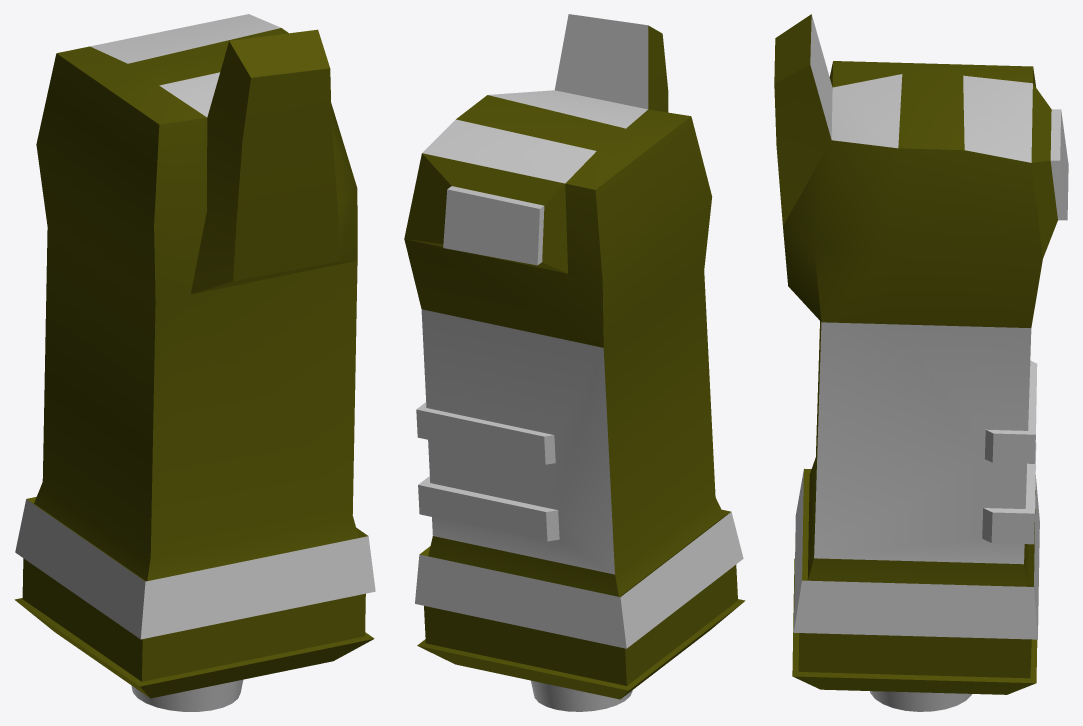
Rendered from leftForeArm.obj.
The picture shows the model from 3 angles, left to right: view 1: azimuth 30°, elevation 25°; view 2: azimuth 150°, elevation 25°; view 3: azimuth 270°, elevation 25°; orthographic projection. The views are drawn at different scales.
Parts seen in each view (by area): view 1: 3_Forearm.L_Cube.036; view 2: 3_Forearm.L_Cube.036; view 3: 3_Forearm.L_Cube.036.
Boxes of the visible parts, x1,y1,x2,y2 form: 3_Forearm.L_Cube.036: (14,14,375,711); 3_Forearm.L_Cube.036: (404,14,745,711); 3_Forearm.L_Cube.036: (774,14,1068,711).
Size of the model in its own units: 0.8597 by 2.33 by 0.9274.
